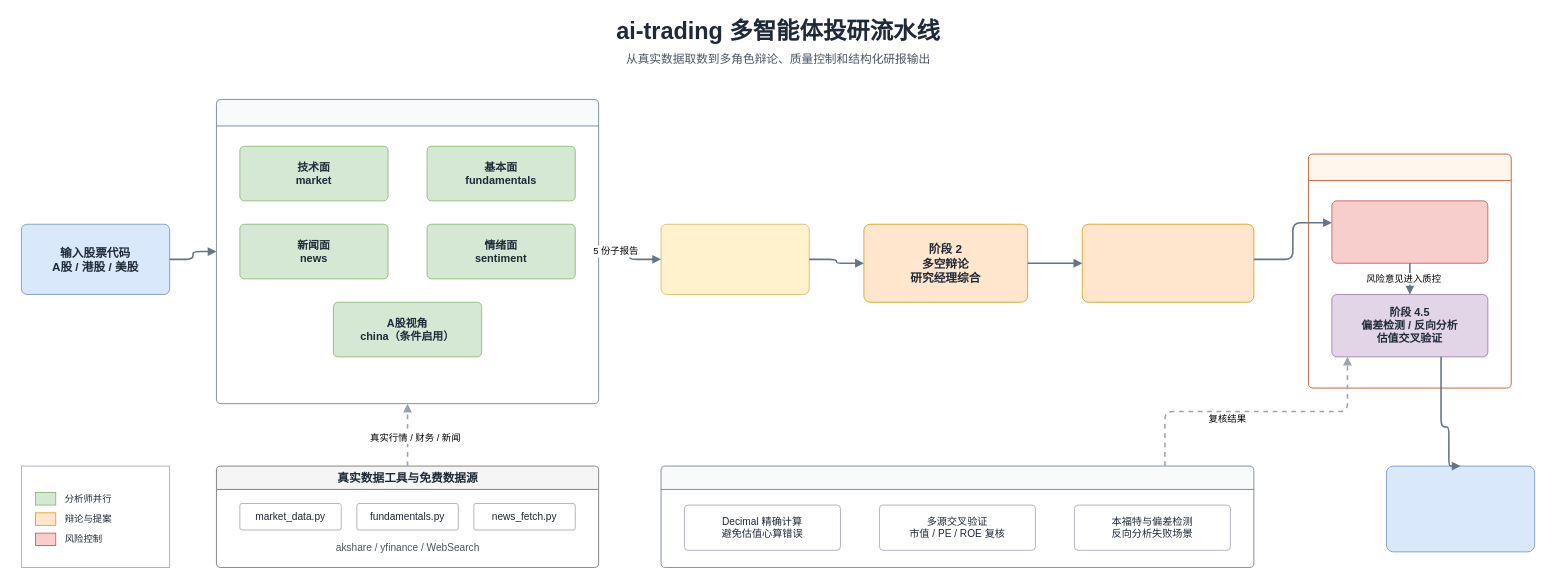
Some shapes in this 1555 by 581 pixel diagram are drawn without their labels. The shapes that lost their labels are listed below. From the top down, each one's box as (x1, y1, x2, y2) in pixels, then its label:
(216, 99, 599, 404): 阶段 1：五分析师并行
(1331, 200, 1488, 263): 阶段 4 激进 / 保守 / 中性 风险三方辩论
(660, 223, 809, 294): 子报告汇总 形成证据池
(1081, 223, 1254, 302): 阶段 3 交易员提案 买入 / 持有 / 卖出
(1308, 153, 1511, 388): 风险与质量控制
(21, 465, 170, 567): 图例
(660, 465, 1254, 567): 数据严谨性保障
(1386, 465, 1535, 552): 阶段 5-6 风险经理拍板 Markdown / PDF 研报
